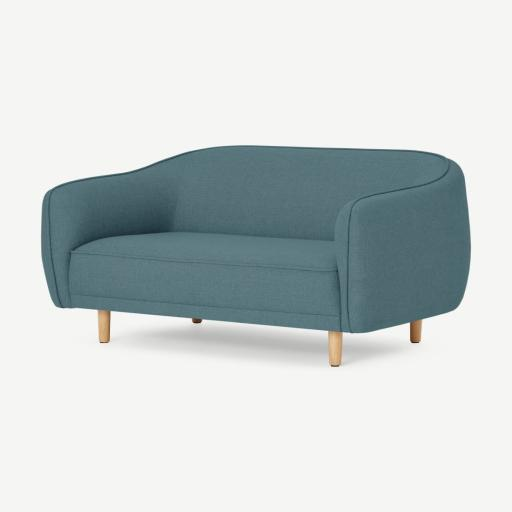back_cushion: (166, 146, 447, 240)
left_arm: (335, 162, 470, 333)
legs: (328, 331, 342, 367), (98, 310, 111, 343), (410, 320, 422, 343), (192, 318, 202, 324)
one-seater: (42, 146, 470, 366)
right_arm: (42, 159, 177, 307)
seat_cushion: (68, 233, 339, 330)
